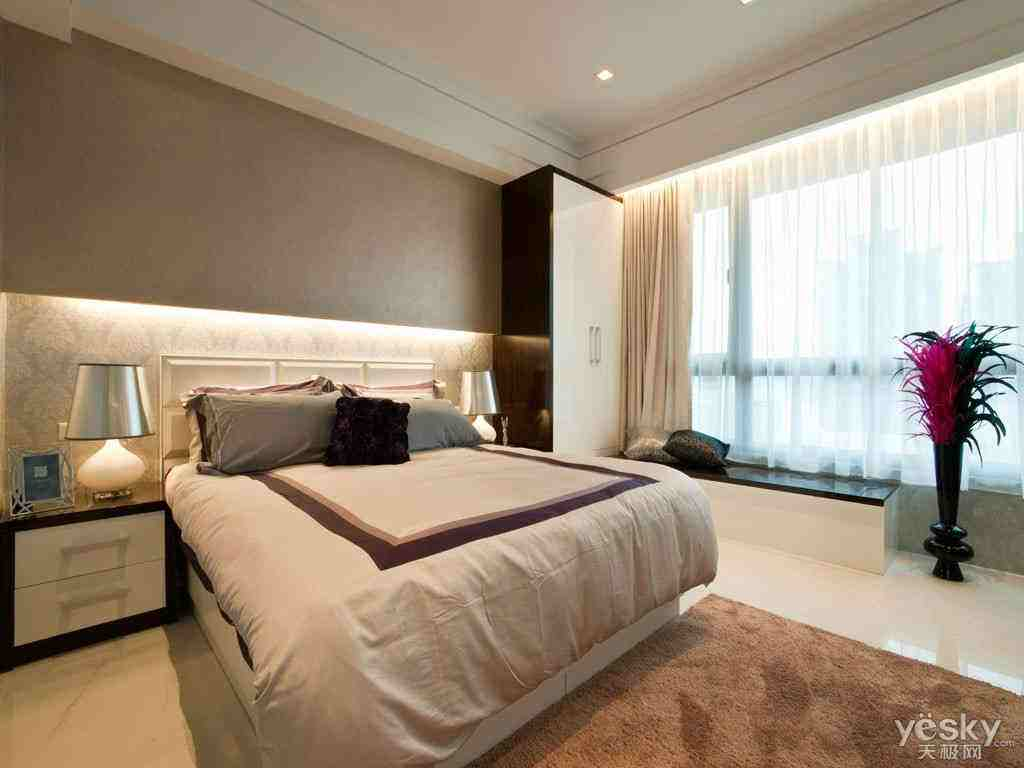床: (179, 428, 719, 745)
枕头: (185, 368, 496, 473)
灯: (60, 357, 156, 504), (456, 364, 504, 440), (596, 65, 626, 87)
